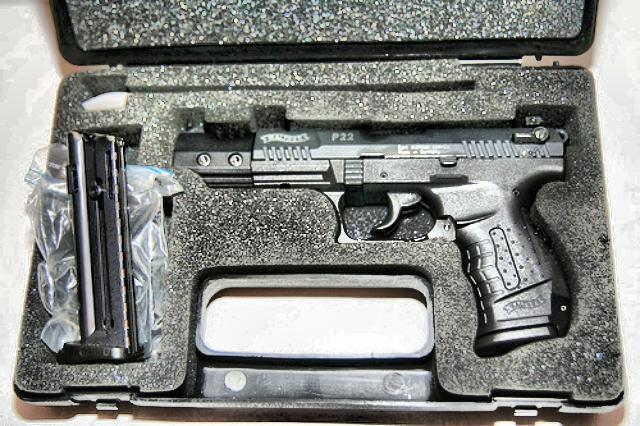pistol: (170, 111, 570, 358)
